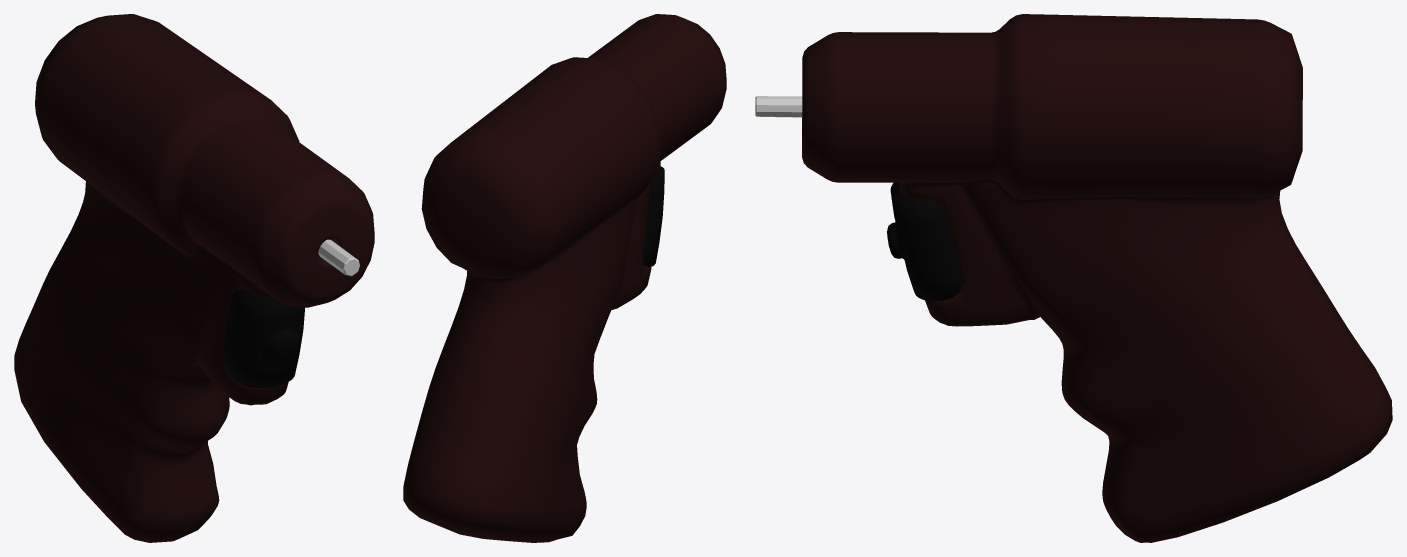
File: Power_drill.fbx
3 views of the same model, side by side, from view 1: azimuth 30°, elevation 25°; view 2: azimuth 150°, elevation 25°; view 3: azimuth 270°, elevation 25° (orthographic). The views are drawn at different scales.
Visible parts, largest first — view 1: Base, Button, Tip; view 2: Base, Button; view 3: Base, Button, Tip.
Part boxes in pixels (bbox=[...]): Base: bbox=[14, 14, 374, 542]; Button: bbox=[223, 289, 304, 387]; Tip: bbox=[318, 239, 359, 276]; Base: bbox=[403, 14, 726, 542]; Button: bbox=[643, 166, 664, 266]; Base: bbox=[802, 14, 1392, 542]; Button: bbox=[887, 182, 961, 301]; Tip: bbox=[755, 96, 802, 117].
Bounding box in the file's own units: 202 × 636 × 716.
